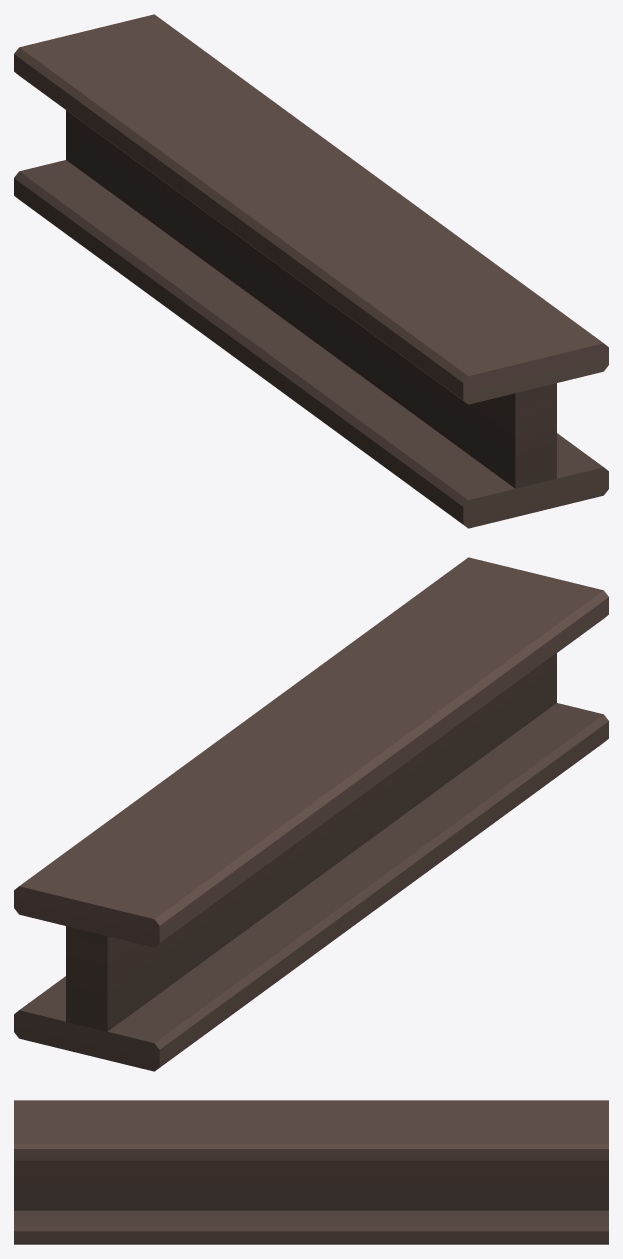
Rendered from Rail_C_2_2.fbx.
3 views of the same model, one above another, from view 1: azimuth 30°, elevation 25°; view 2: azimuth 150°, elevation 25°; view 3: azimuth 270°, elevation 25° (orthographic). The views are drawn at different scales.
Visible parts, largest first — view 1: Rail_C_2_2; view 2: Rail_C_2_2; view 3: Rail_C_2_2.
Part boxes in pixels (x1=…): Rail_C_2_2: x1=14, y1=14, x2=608, y2=528; Rail_C_2_2: x1=14, y1=557, x2=608, y2=1071; Rail_C_2_2: x1=14, y1=1100, x2=608, y2=1244.
Bounding box in the file's own units: 37.43 × 37.43 × 200.
